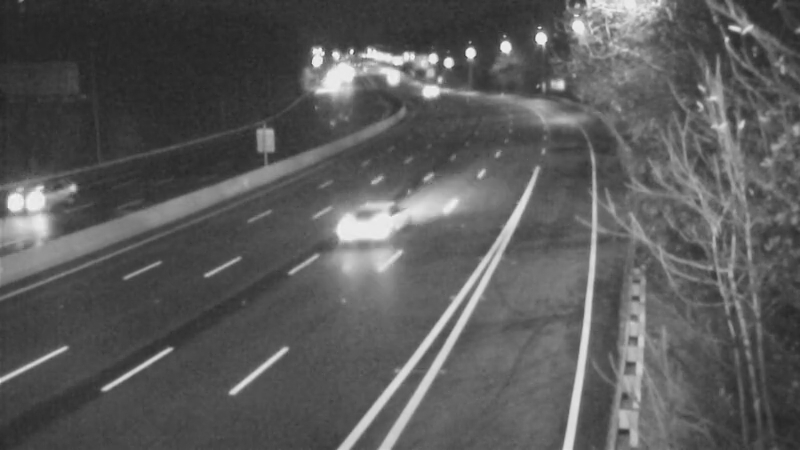vehicle: (317, 184, 397, 264), (1, 158, 77, 238), (400, 65, 450, 115)
